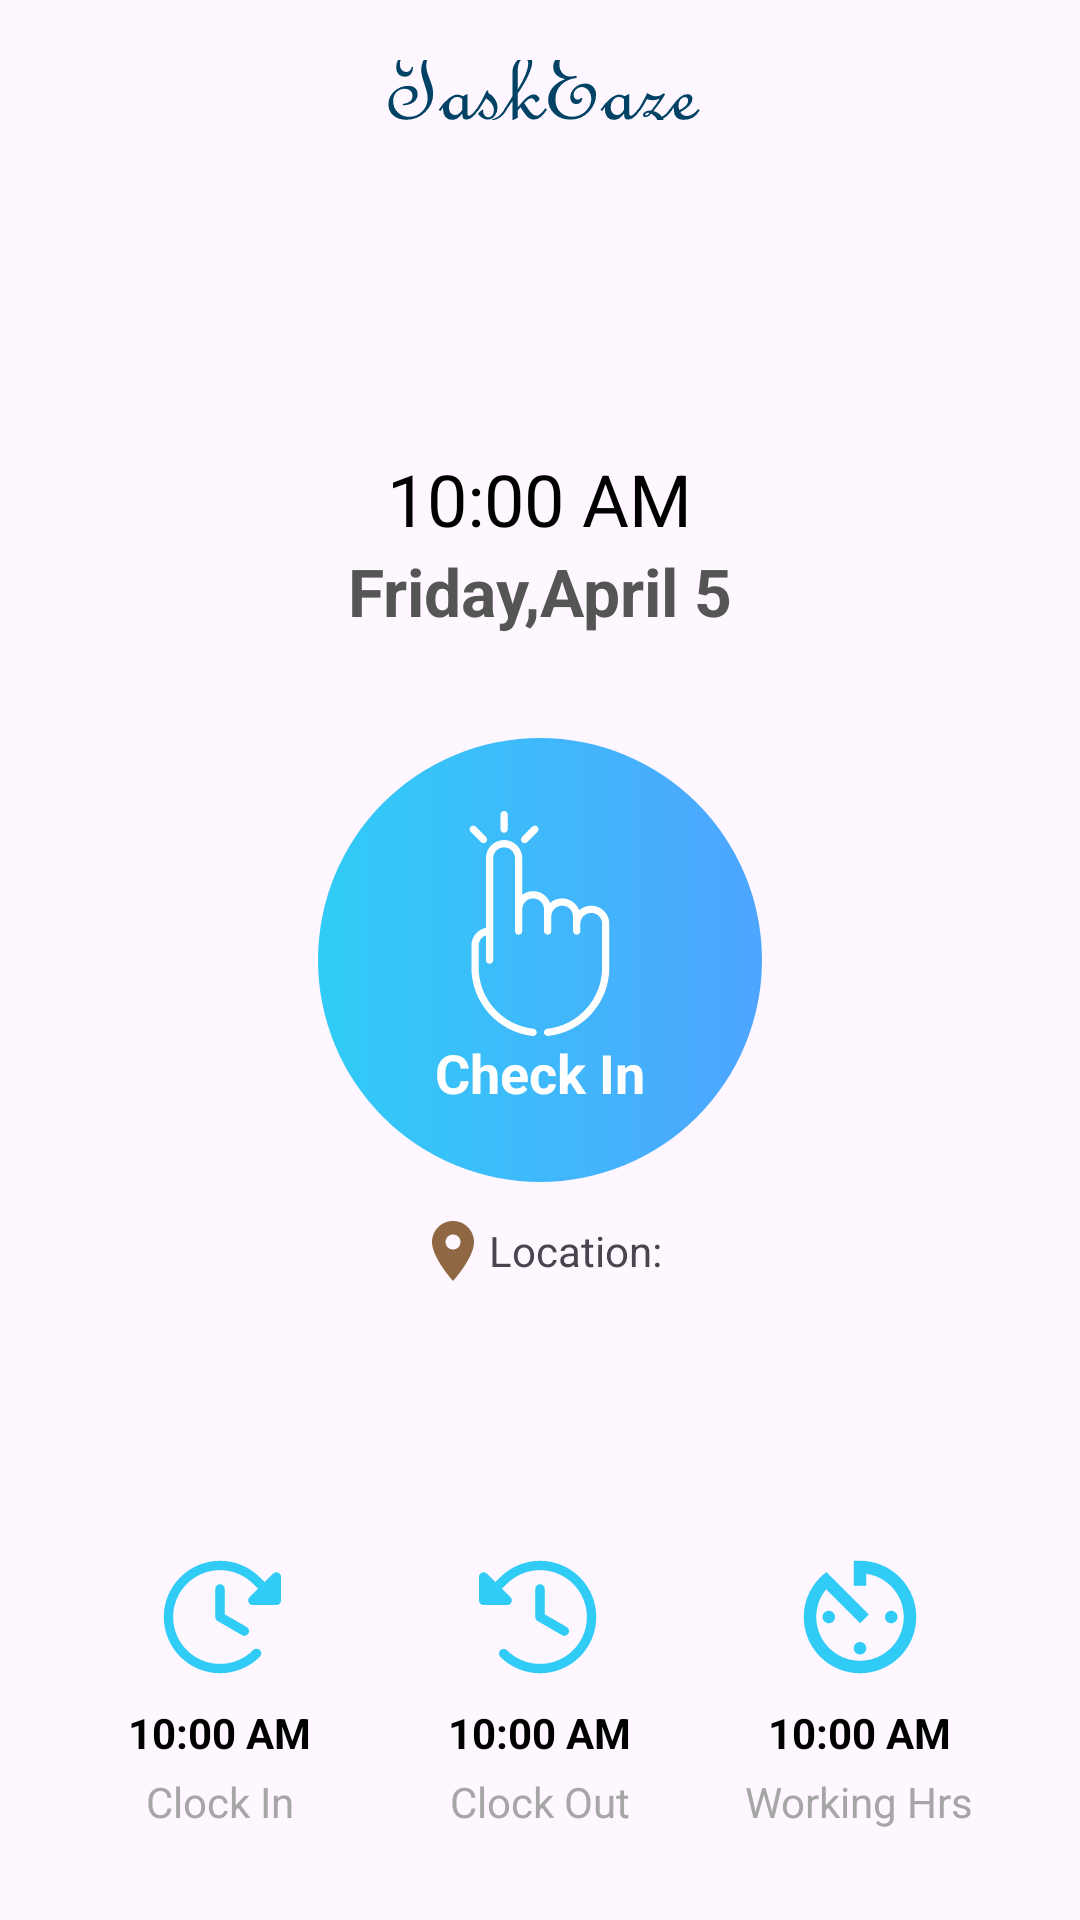

Icon click points for this 1080x1920 phone screenshot, format (x=x, y=y):
checkin: (x=222, y=1617)
checkout: (x=538, y=1617)
finger: (x=518, y=923)
hours: (x=860, y=1617)
tag loc: (x=453, y=1251)
